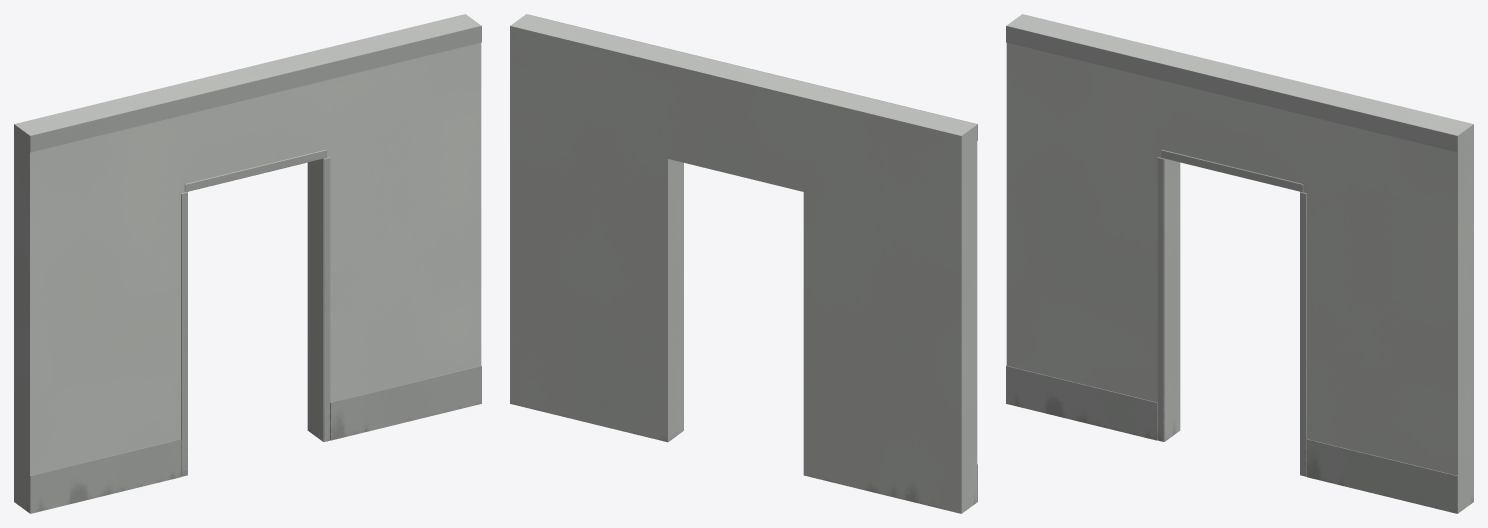
Rendered from facade_doorway_4m.glb.
3 views of the same model, side by side, from view 1: azimuth 30°, elevation 25°; view 2: azimuth 150°, elevation 25°; view 3: azimuth 330°, elevation 25° (orthographic).
Parts seen in each view (by area): view 1: FacadeDoorway; view 2: FacadeDoorway; view 3: FacadeDoorway.
Part boxes in pixels (<box>): FacadeDoorway: <box>14,14,481,513</box>; FacadeDoorway: <box>510,14,977,513</box>; FacadeDoorway: <box>1006,14,1473,513</box>.
Size of what is drawn, in the model's own units: 4 by 3.2 by 0.25.
Materials: 1 (1 with a texture image).
